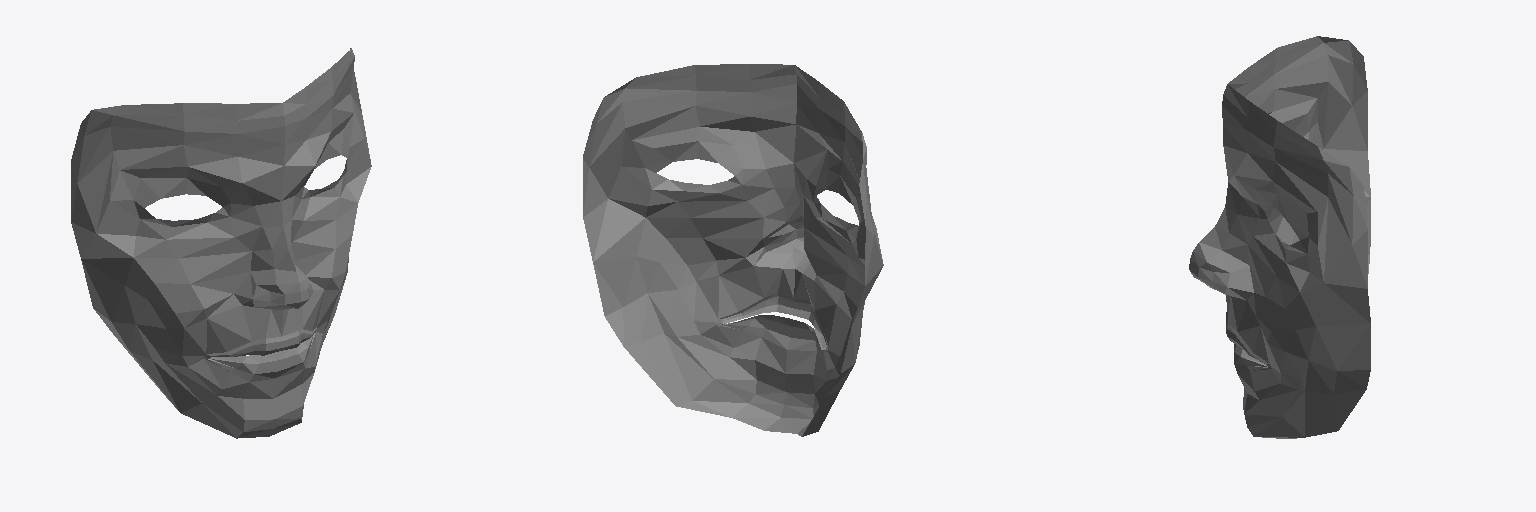
File: Miguel1.obj
3 views of the same model, side by side, from view 1: azimuth 30°, elevation 25°; view 2: azimuth 150°, elevation 25°; view 3: azimuth 270°, elevation 25° (orthographic).
Visible parts, largest first — view 1: Plane003; view 2: Plane003; view 3: Plane003.
Part boxes in pixels (x1,y1,x2,y2): Plane003: (71,48,371,438); Plane003: (583,64,883,436); Plane003: (1189,36,1370,438).
Size of the model in its own units: 27.41 by 31.63 by 15.18.